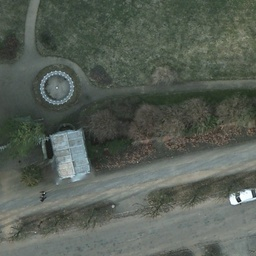car: (228, 187, 256, 206)
